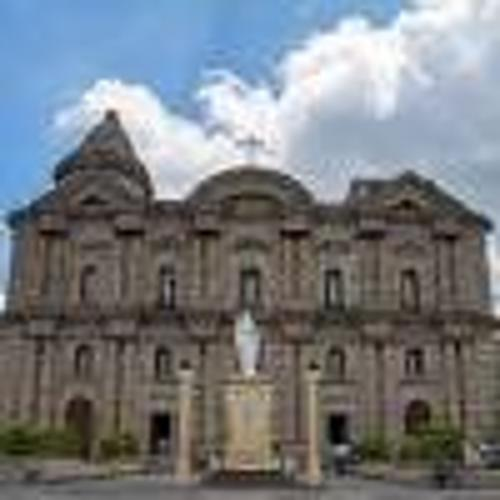Taal Basilica Church: (11, 95, 500, 466)
